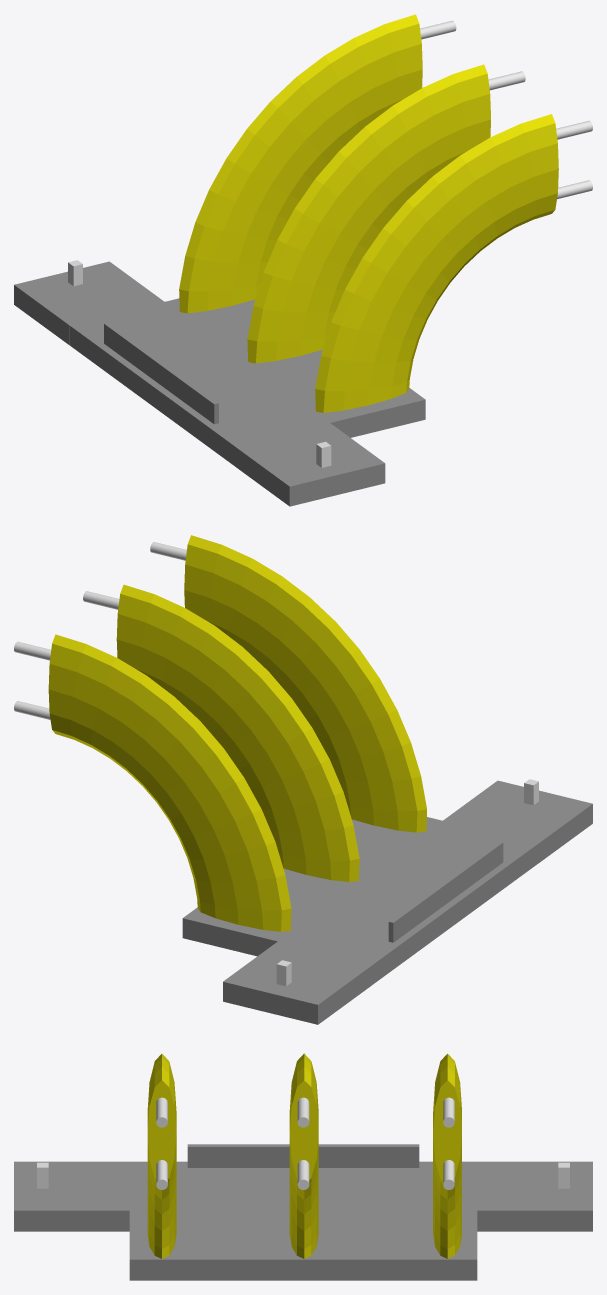
Rendered from Dockyard.fbx.
3 renders of one model, top to bottom at view 1: azimuth 30°, elevation 25°; view 2: azimuth 150°, elevation 25°; view 3: azimuth 270°, elevation 25°, orthographic. The views are drawn at different scales.
Visible parts, largest first — view 1: Torus, Torus.002, Torus.001, Cube, Cube.001, Cube.002, Cube.005; view 2: Torus.002, Torus.001, Torus, Cube, Cube.002, Cube.001, Cube.005; view 3: Cube, Cube.001, Cube.002, Torus, Torus.001, Cube.005, Torus.002, Cylinder.001, Cylinder, Cylinder.002, Cylinder.004, Cylinder.003 (+3 smaller).
Boxes of the visible parts, box(x1,y1,x2,y2) form: Torus: box(315, 114, 558, 412); Torus.002: box(179, 14, 422, 313); Torus.001: box(247, 64, 490, 363); Cube: box(69, 298, 425, 465); Cube.001: box(234, 423, 385, 506); Cube.002: box(14, 261, 164, 344); Cube.005: box(104, 322, 218, 424); Torus.002: box(48, 634, 291, 931); Torus.001: box(116, 584, 359, 881); Torus: box(184, 535, 426, 832); Cube: box(182, 817, 537, 984); Cube.002: box(223, 941, 372, 1024); Cube.001: box(443, 780, 592, 863); Cube.005: box(388, 841, 503, 942); Cube: box(129, 1161, 477, 1280); Cube.001: box(14, 1161, 129, 1231); Cube.002: box(477, 1161, 592, 1231); Torus: box(147, 1054, 176, 1258); Torus.001: box(289, 1053, 318, 1258); Cube.005: box(187, 1144, 419, 1167); Torus.002: box(433, 1053, 461, 1258); Cylinder.001: box(297, 1097, 309, 1127); Cylinder: box(297, 1160, 309, 1189); Cylinder.002: box(156, 1097, 167, 1127); Cylinder.004: box(443, 1097, 454, 1127); Cylinder.003: box(156, 1160, 167, 1189).
Bounding box in the file's own units: 7765 × 5590 × 10000.
